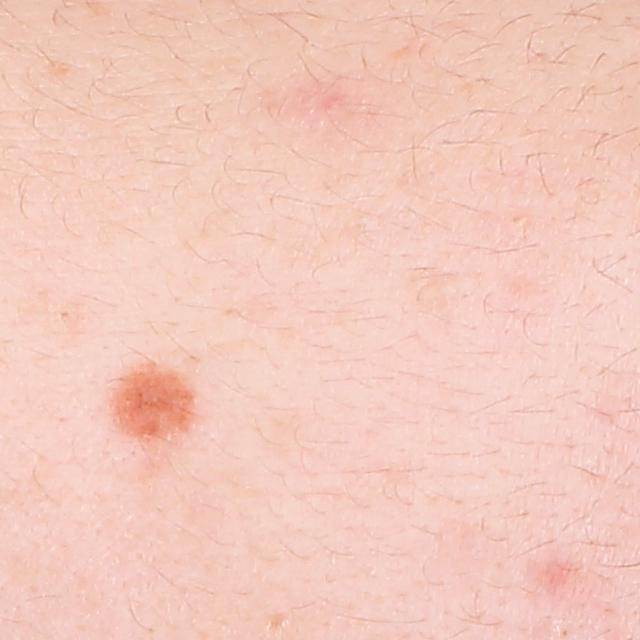nevus: (105, 344, 205, 441)
